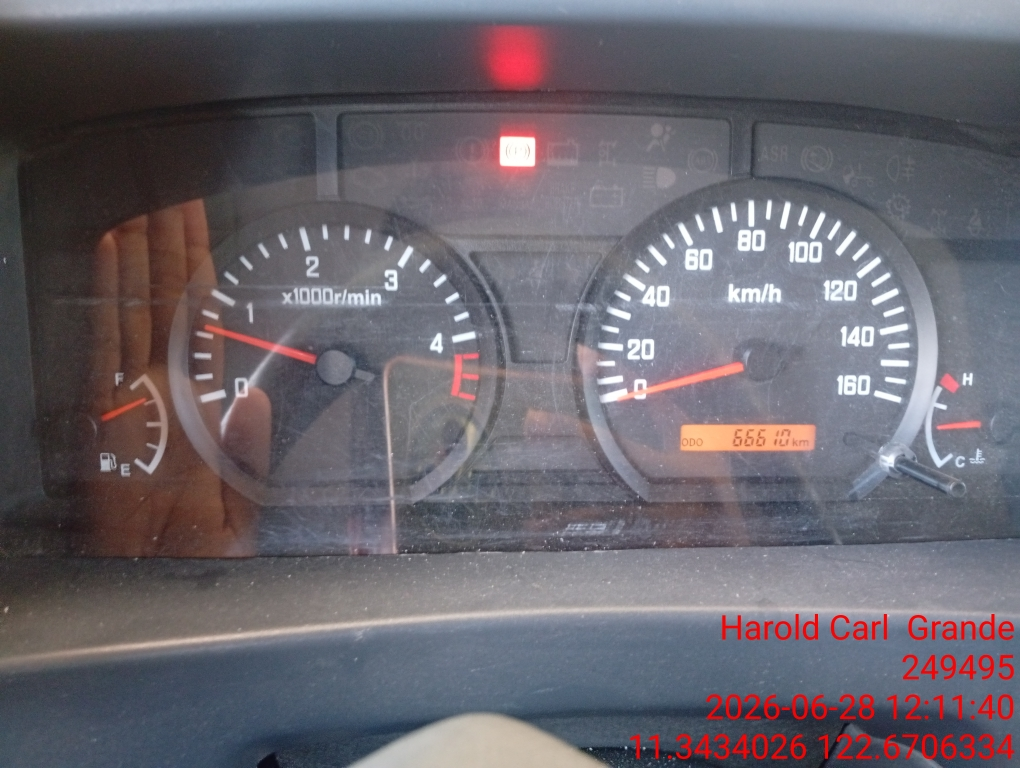pointer_pose: (74, 0, 150, 471)
